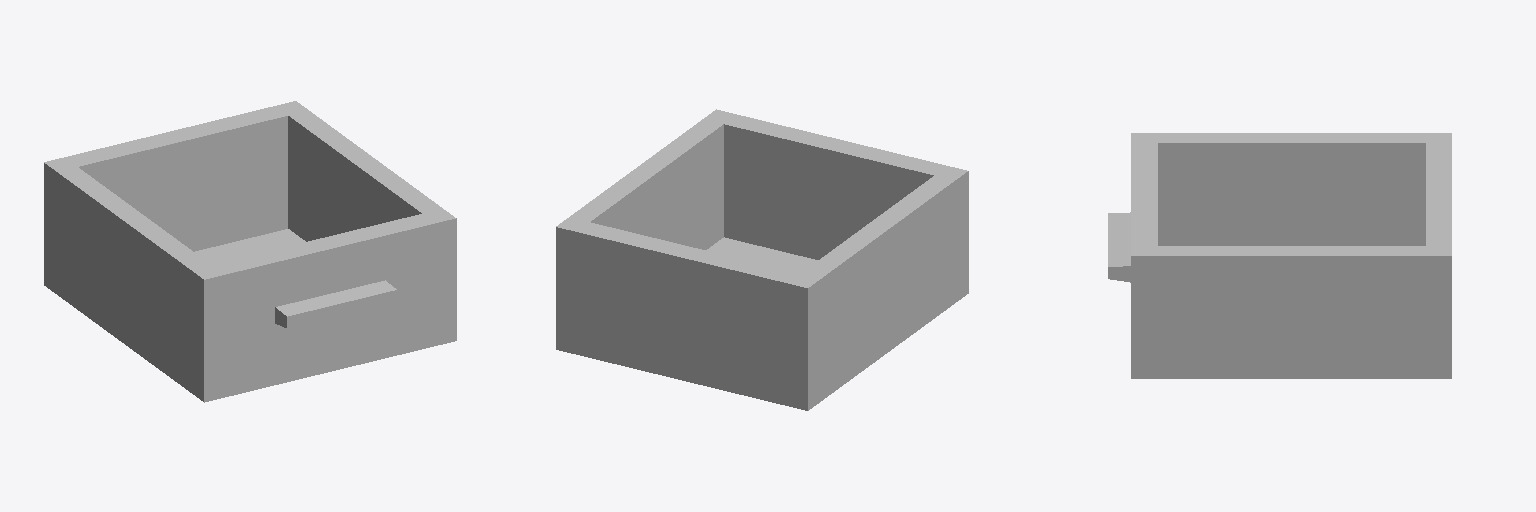
The model's file is Office_Counter_Drawer.obj.
3 renders of one model, left to right at view 1: azimuth 30°, elevation 25°; view 2: azimuth 150°, elevation 25°; view 3: azimuth 270°, elevation 25°, orthographic.
Visible parts, largest first — view 1: Office_Counter_Drawer; view 2: Office_Counter_Drawer; view 3: Office_Counter_Drawer.
Part boxes in pixels (x1,y1,x2,y2): Office_Counter_Drawer: (44, 101, 456, 402); Office_Counter_Drawer: (556, 109, 968, 410); Office_Counter_Drawer: (1108, 133, 1451, 378).
Size of the model in its own units: 0.4137 by 0.1925 by 0.4895.